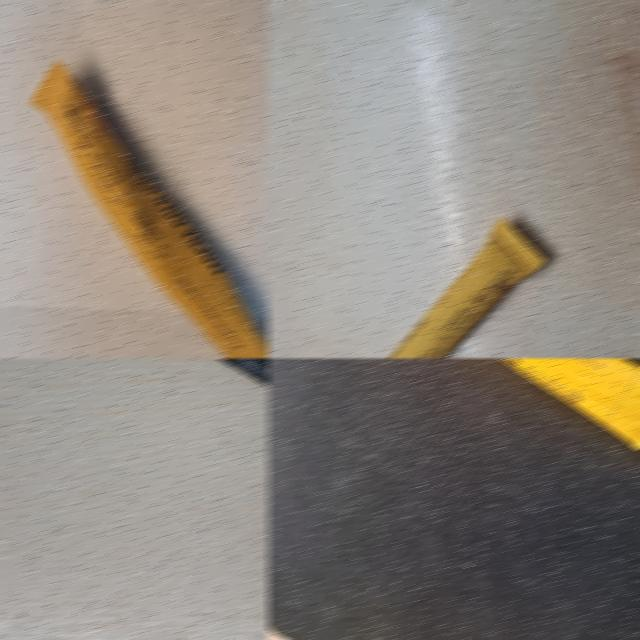KANU: (73, 358, 270, 446)
mix_coffee: (19, 55, 270, 358), (308, 198, 562, 358), (295, 358, 640, 472)
